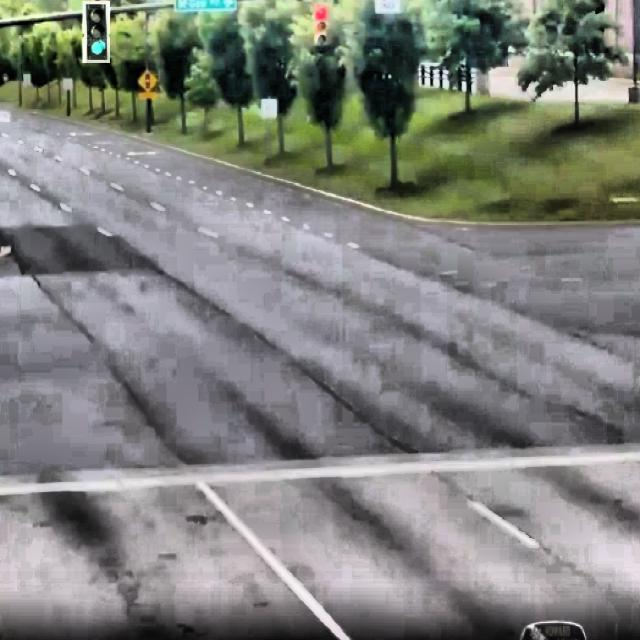green: (85, 1, 106, 60)
